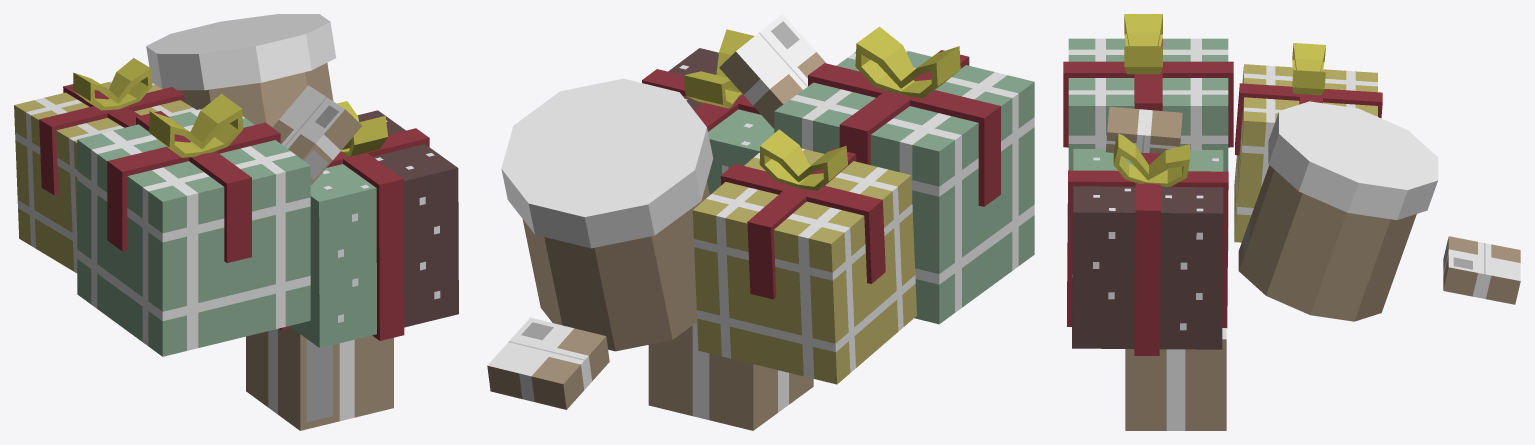
File: Cumulo de regalos 2.fbx
3 renders of one model, left to right at view 1: azimuth 30°, elevation 25°; view 2: azimuth 150°, elevation 25°; view 3: azimuth 270°, elevation 25°, orthographic. The views are drawn at different scales.
Visible parts, largest first — view 1: fes_Caja_tipo_2, fes_Caja_tipo_6, Caja_circular3, fes_Caja_tipo_5, Caja_de_compra_5, Caja_de_compra_7, Moñito_2, Moñito_5, Moñito_6; view 2: Caja_circular3, fes_Caja_tipo_5, fes_Caja_tipo_2, Caja_de_compra_5, Caja_de_compra_6, Caja_de_compra_7, fes_Caja_tipo_6, Moñito_2, Moñito_5, Moñito_6; view 3: Caja_circular3, fes_Caja_tipo_6, fes_Caja_tipo_2, fes_Caja_tipo_5, Caja_de_compra_5, Caja_de_compra_6, Caja_de_compra_7, Moñito_6, Moñito_2, Moñito_5.
Part boxes in pixels (x1,y1,x2,y2): fes_Caja_tipo_2: [77, 109, 310, 356]; fes_Caja_tipo_6: [279, 110, 458, 347]; Caja_circular3: [146, 14, 336, 127]; fes_Caja_tipo_5: [14, 81, 196, 273]; Caja_de_compra_5: [246, 328, 393, 430]; Caja_de_compra_7: [272, 85, 362, 185]; Moñito_2: [149, 93, 243, 157]; Moñito_5: [73, 58, 152, 110]; Moñito_6: [337, 101, 388, 156]; Caja_circular3: [501, 78, 713, 351]; fes_Caja_tipo_5: [692, 148, 916, 384]; fes_Caja_tipo_2: [774, 50, 1034, 324]; Caja_de_compra_5: [648, 322, 813, 430]; Caja_de_compra_6: [487, 317, 609, 409]; Caja_de_compra_7: [719, 14, 825, 128]; fes_Caja_tipo_6: [642, 48, 774, 194]; Moñito_2: [855, 26, 960, 98]; Moñito_5: [759, 129, 847, 190]; Moñito_6: [684, 29, 754, 108]; Caja_circular3: [1238, 101, 1438, 321]; fes_Caja_tipo_6: [1067, 149, 1228, 355]; fes_Caja_tipo_2: [1063, 37, 1233, 250]; fes_Caja_tipo_5: [1234, 64, 1382, 242]; Caja_de_compra_5: [1125, 328, 1226, 430]; Caja_de_compra_6: [1443, 236, 1520, 304]; Caja_de_compra_7: [1105, 106, 1182, 153]; Moñito_6: [1113, 133, 1189, 186]; Moñito_2: [1124, 14, 1162, 74]; Moñito_5: [1292, 43, 1325, 95].
Size of the model in its own units: 0.4845 by 0.4914 by 0.6475.
